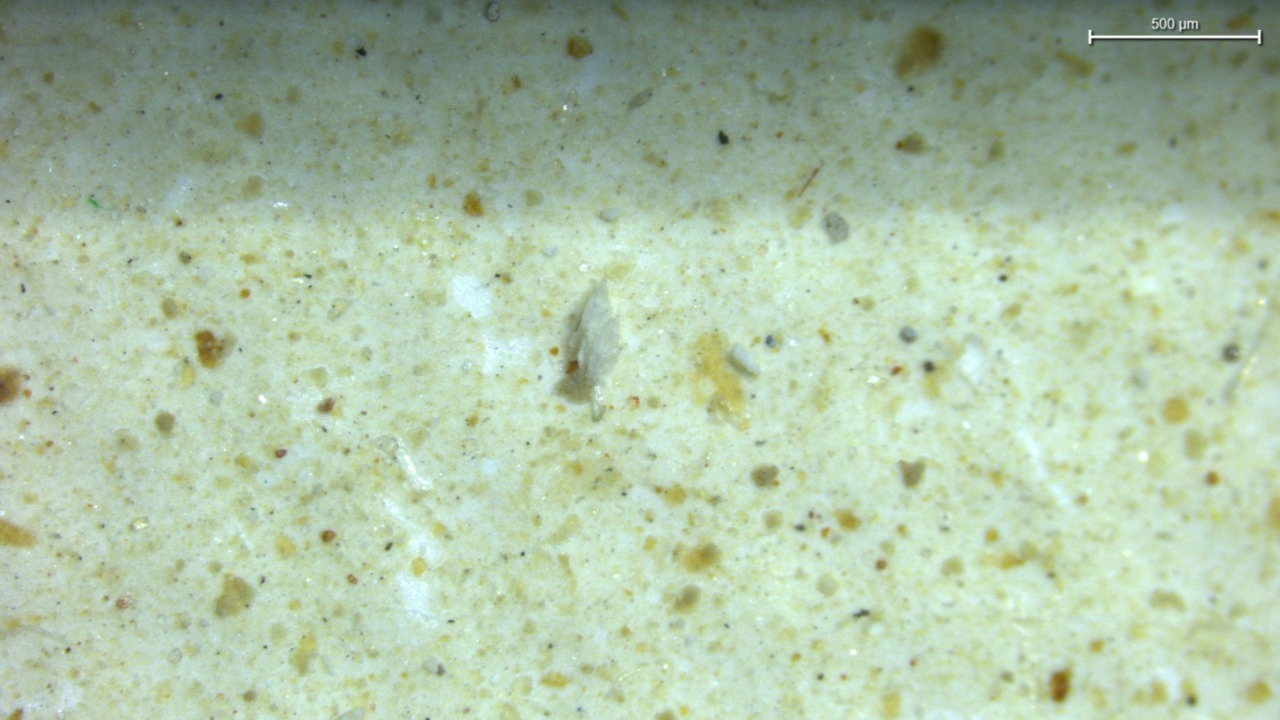microplastic_fragment: (558, 280, 620, 420), (727, 346, 759, 376)
